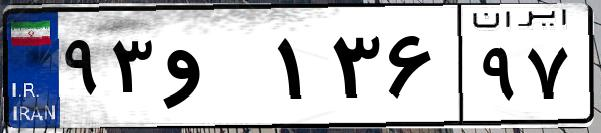1: (270, 28, 330, 110)
3: (330, 28, 385, 110), (110, 28, 158, 98)
6: (385, 28, 445, 110)
7: (525, 38, 570, 115)
9: (57, 26, 110, 100), (475, 38, 525, 113)
و: (158, 20, 270, 120)
